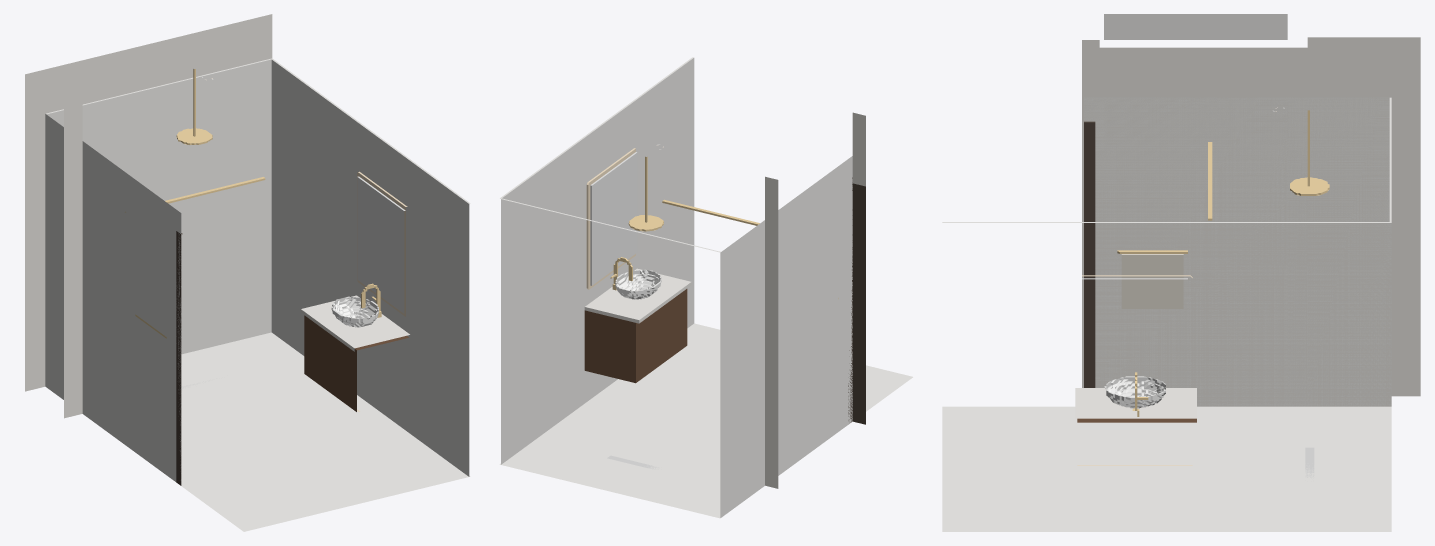
File: BATH2.glb
3 renders of one model, left to right at view 1: azimuth 30°, elevation 25°; view 2: azimuth 150°, elevation 25°; view 3: azimuth 270°, elevation 25°, orthographic. The views are drawn at different scales.
Visible parts, largest first — view 1: WEB_BATH2; view 2: WEB_BATH2; view 3: WEB_BATH2.
Part boxes in pixels (<box>): WEB_BATH2: <box>25,14,470,531</box>; WEB_BATH2: <box>499,57,912,518</box>; WEB_BATH2: <box>942,14,1420,531</box>.
Size of the model in its own units: 2.28 by 3 by 3.38.
